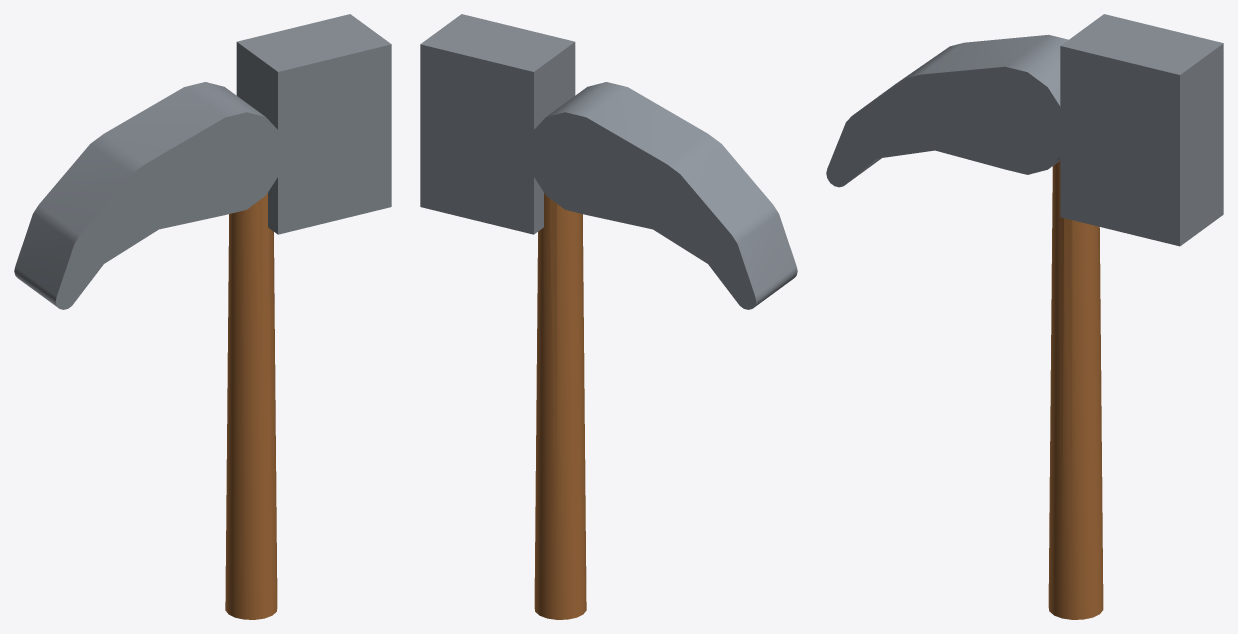
Rendered from hammer.glb.
3 views of the same model, side by side, from view 1: azimuth 30°, elevation 25°; view 2: azimuth 150°, elevation 25°; view 3: azimuth 330°, elevation 25° (orthographic). The views are drawn at different scales.
Parts seen in each view (by area): view 1: hammer; view 2: hammer; view 3: hammer.
Part boxes in pixels (<box>): hammer: <box>14,14,391,619</box>; hammer: <box>420,14,797,619</box>; hammer: <box>826,14,1223,619</box>.
Bounding box in the file's own units: 0.0575 × 0.09 × 0.0123.
